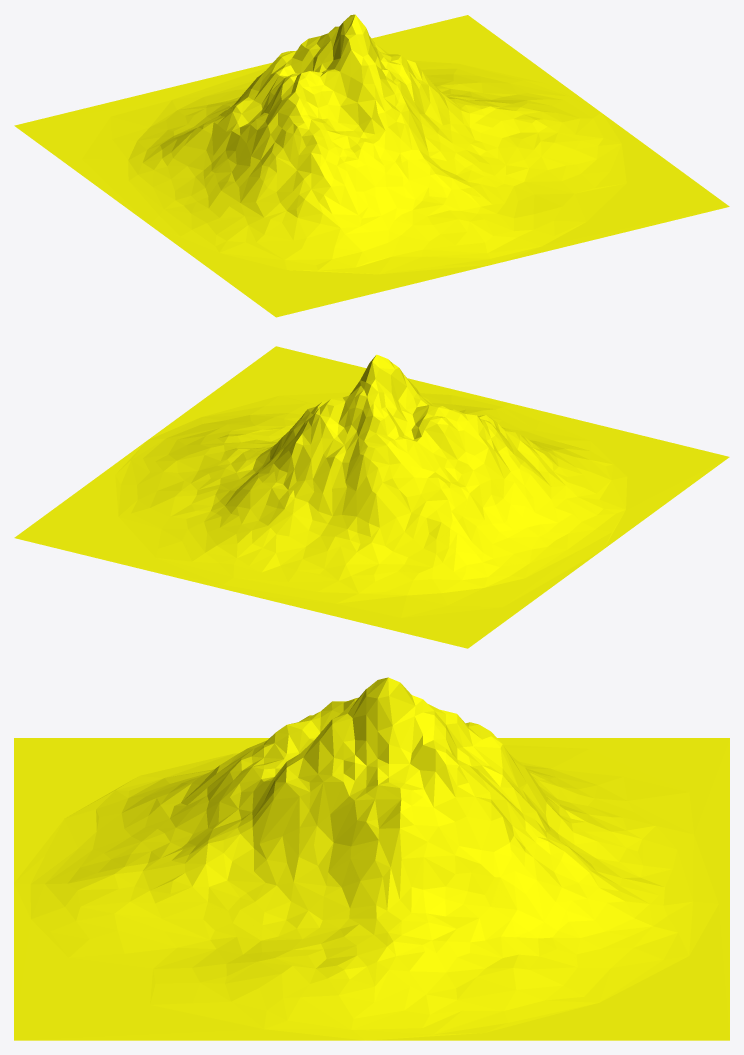
Rendered from mountain01.glb.
3 views of the same model, one above another, from view 1: azimuth 30°, elevation 25°; view 2: azimuth 150°, elevation 25°; view 3: azimuth 270°, elevation 25° (orthographic). The views are drawn at different scales.
Visible parts, largest first — view 1: mountain01; view 2: mountain01; view 3: mountain01.
Boxes of the visible parts, x1,y1,x2,y2 form: mountain01: [14, 14, 729, 317]; mountain01: [14, 346, 729, 648]; mountain01: [14, 677, 729, 1040].
Bounding box in the file's own units: 100 × 31.57 × 100.
Materials: 1 (1 with a texture image).
